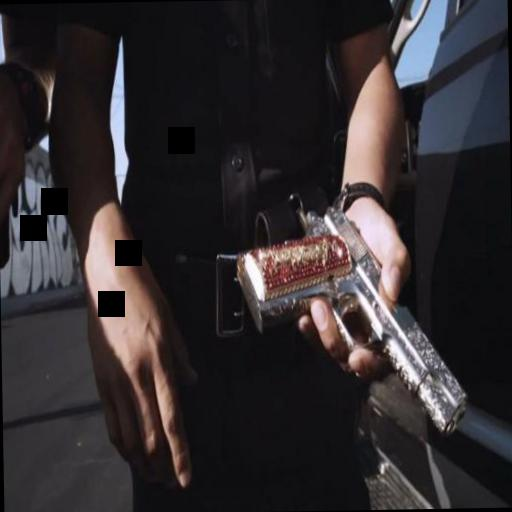Handgun: (228, 186, 474, 454)
